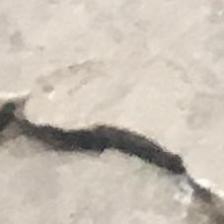Crack: (0, 68, 224, 213)
